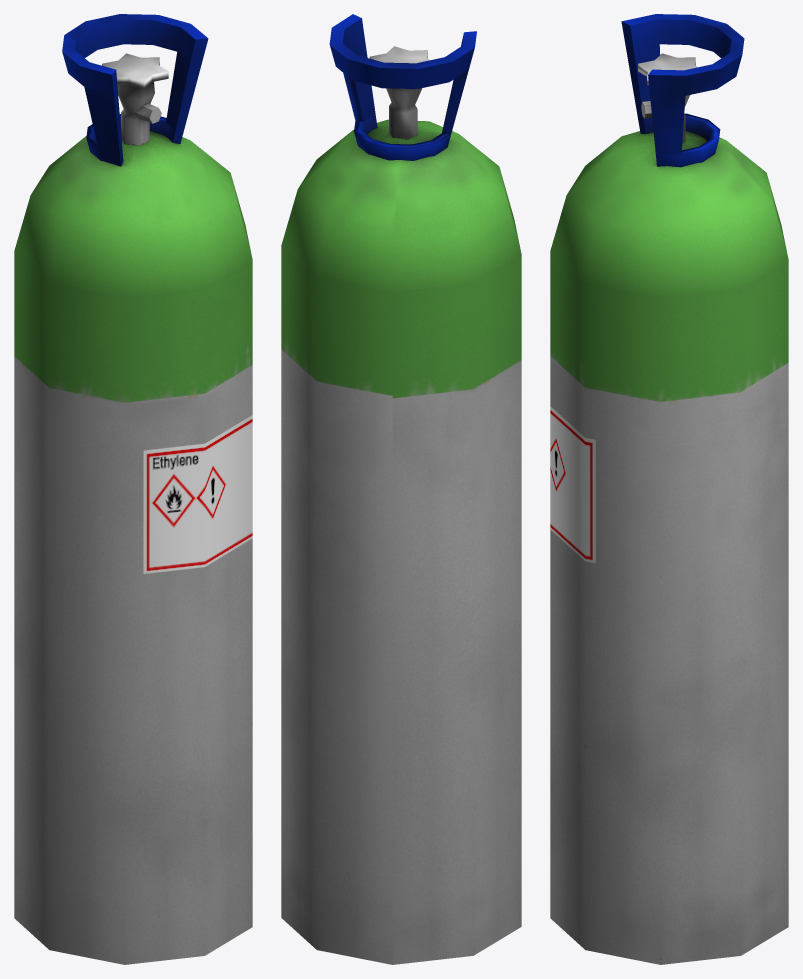
File: ethylene_false.fbx
The picture shows the model from 3 angles, left to right: view 1: azimuth 30°, elevation 25°; view 2: azimuth 150°, elevation 25°; view 3: azimuth 270°, elevation 25°; orthographic projection.
Visible parts, largest first — view 1: ethylene_false; view 2: ethylene_false; view 3: ethylene_false.
Part boxes in pixels (x1,y1,x2,y2): ethylene_false: (14,14,252,964); ethylene_false: (281,14,521,964); ethylene_false: (550,14,788,964).
Size of the model in its own units: 0.1676 by 0.6744 by 0.1676.
Materials: 1 (1 with a texture image).
